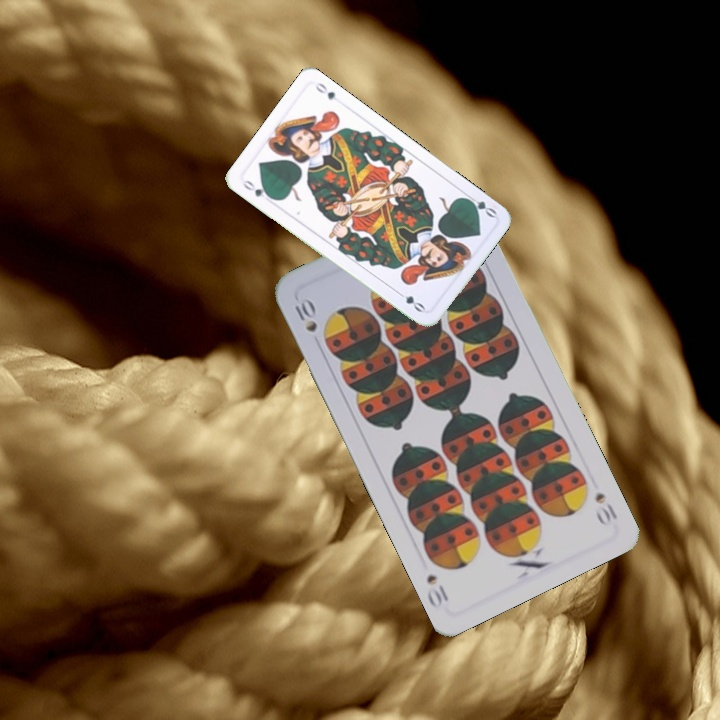GO: (461, 190, 499, 220), (239, 176, 276, 202)
S10: (290, 294, 320, 336), (590, 488, 620, 529)
